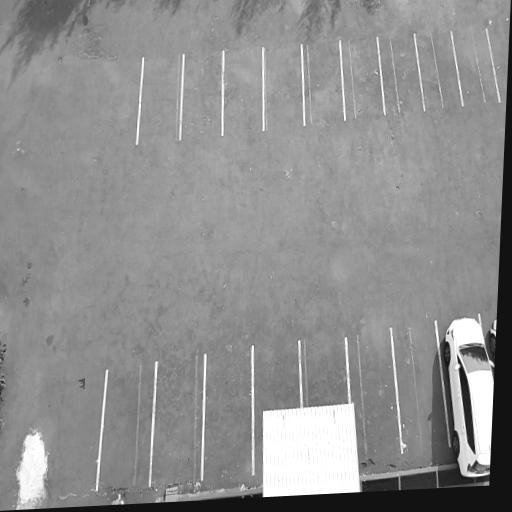Car: (439, 308, 494, 484)
Space Available: (390, 322, 450, 453), (97, 361, 157, 490), (151, 353, 206, 484), (348, 327, 401, 459), (202, 345, 253, 480), (136, 55, 184, 144), (451, 27, 499, 106), (301, 41, 345, 127), (180, 50, 222, 138), (340, 38, 385, 120), (378, 33, 424, 113), (253, 338, 301, 414), (415, 30, 462, 107), (299, 336, 349, 407), (223, 47, 263, 134), (263, 43, 303, 128), (487, 24, 510, 101)
